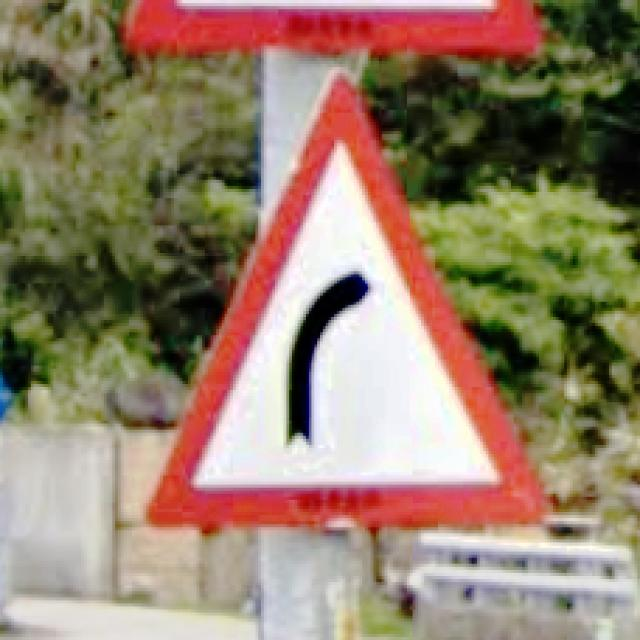rightbend: (141, 73, 547, 530)
